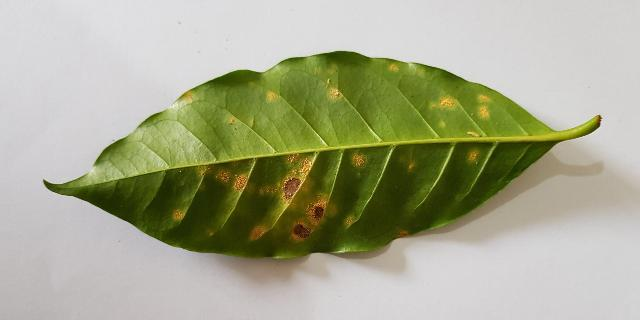miner: (249, 152, 335, 241), (196, 159, 256, 196), (429, 95, 461, 110), (477, 92, 493, 119), (352, 152, 366, 166), (172, 209, 186, 220), (468, 149, 479, 162), (328, 88, 342, 98), (183, 90, 192, 101), (398, 231, 409, 238), (389, 63, 398, 71), (268, 92, 276, 100), (408, 162, 414, 170), (346, 218, 352, 225)
